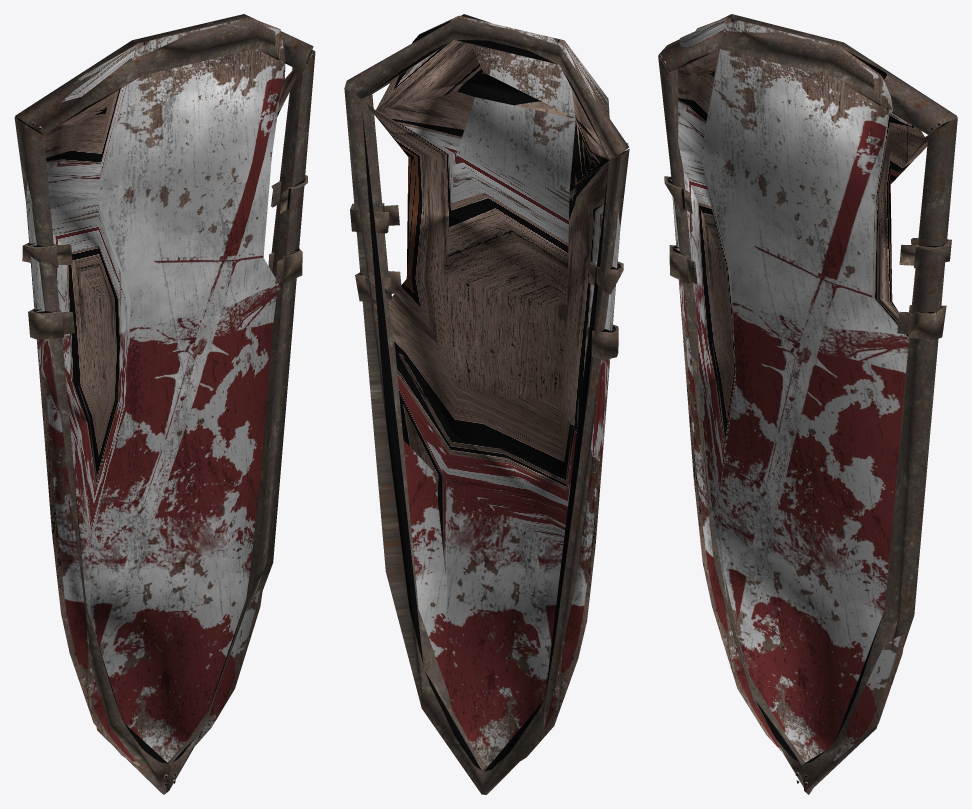
The model's file is kite_shield_fern.gltf.
3 renders of one model, left to right at view 1: azimuth 30°, elevation 25°; view 2: azimuth 150°, elevation 25°; view 3: azimuth 330°, elevation 25°, orthographic. The views are drawn at different scales.
Visible parts, largest first — view 1: kite_shield_fern; view 2: kite_shield_fern; view 3: kite_shield_fern.
Boxes of the visible parts, box(x1,y1,x2,y2) form: kite_shield_fern: box(14, 14, 315, 794); kite_shield_fern: box(344, 14, 629, 794); kite_shield_fern: box(658, 14, 957, 794).
Bounding box in the file's own units: 0.5366 × 1.37 × 0.127.
Materials: 2 (2 with a texture image).
